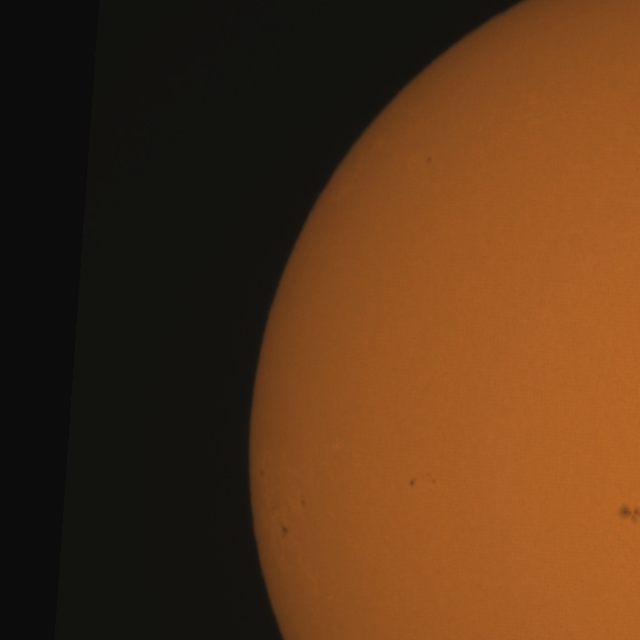sunspot: (618, 503, 640, 526), (409, 473, 436, 488), (279, 523, 290, 540), (408, 477, 417, 488), (425, 156, 433, 164)
